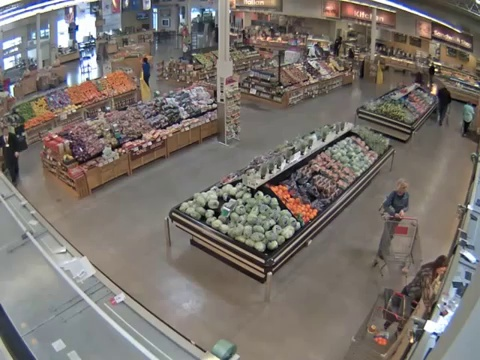face: (437, 262, 447, 276), (398, 182, 407, 194), (2, 127, 9, 135)
